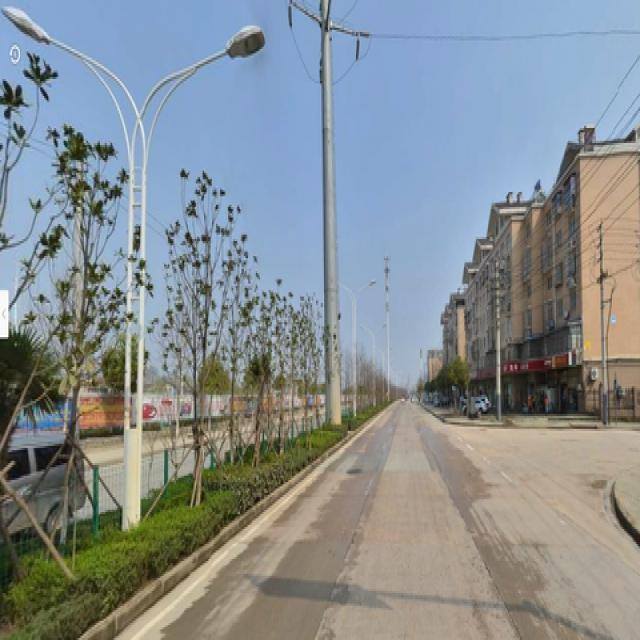magn: (43, 124, 108, 510), (176, 172, 217, 490)
